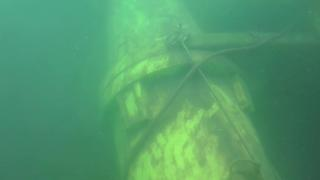pipe: (96, 1, 283, 180)
